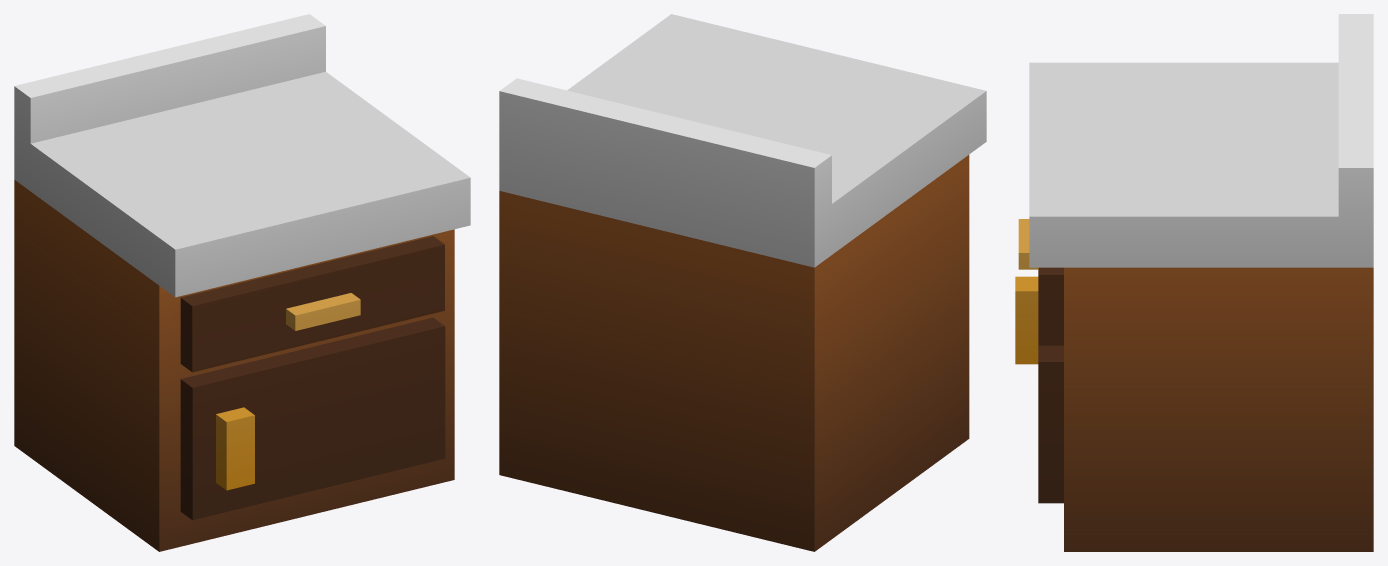
Rendered from CounterTop_2Layer_2_DrawerDoor_spruce.fbx.
3 views of the same model, side by side, from view 1: azimuth 30°, elevation 25°; view 2: azimuth 150°, elevation 25°; view 3: azimuth 270°, elevation 25° (orthographic). The views are drawn at different scales.
Parts seen in each view (by area): view 1: CounterTop_2Layer_2_DrawerDoor.spruce, CounterTop_2Layer_2_DrawerDoor_Door.spruce, CounterTop_2Layer_2_DrawerDoor_Drawer.spruce; view 2: CounterTop_2Layer_2_DrawerDoor.spruce; view 3: CounterTop_2Layer_2_DrawerDoor.spruce, CounterTop_2Layer_2_DrawerDoor_Door.spruce, CounterTop_2Layer_2_DrawerDoor_Drawer.spruce.
Boxes of the visible parts, x1,y1,x2,y2 form: CounterTop_2Layer_2_DrawerDoor.spruce: (14, 14, 470, 551); CounterTop_2Layer_2_DrawerDoor_Door.spruce: (180, 317, 445, 520); CounterTop_2Layer_2_DrawerDoor_Drawer.spruce: (180, 236, 444, 372); CounterTop_2Layer_2_DrawerDoor.spruce: (499, 14, 986, 551); CounterTop_2Layer_2_DrawerDoor.spruce: (1029, 14, 1373, 551); CounterTop_2Layer_2_DrawerDoor_Door.spruce: (1015, 270, 1063, 503); CounterTop_2Layer_2_DrawerDoor_Drawer.spruce: (1018, 219, 1063, 345).
Bounding box in the file's own units: 99.99 × 116 × 98.37.
